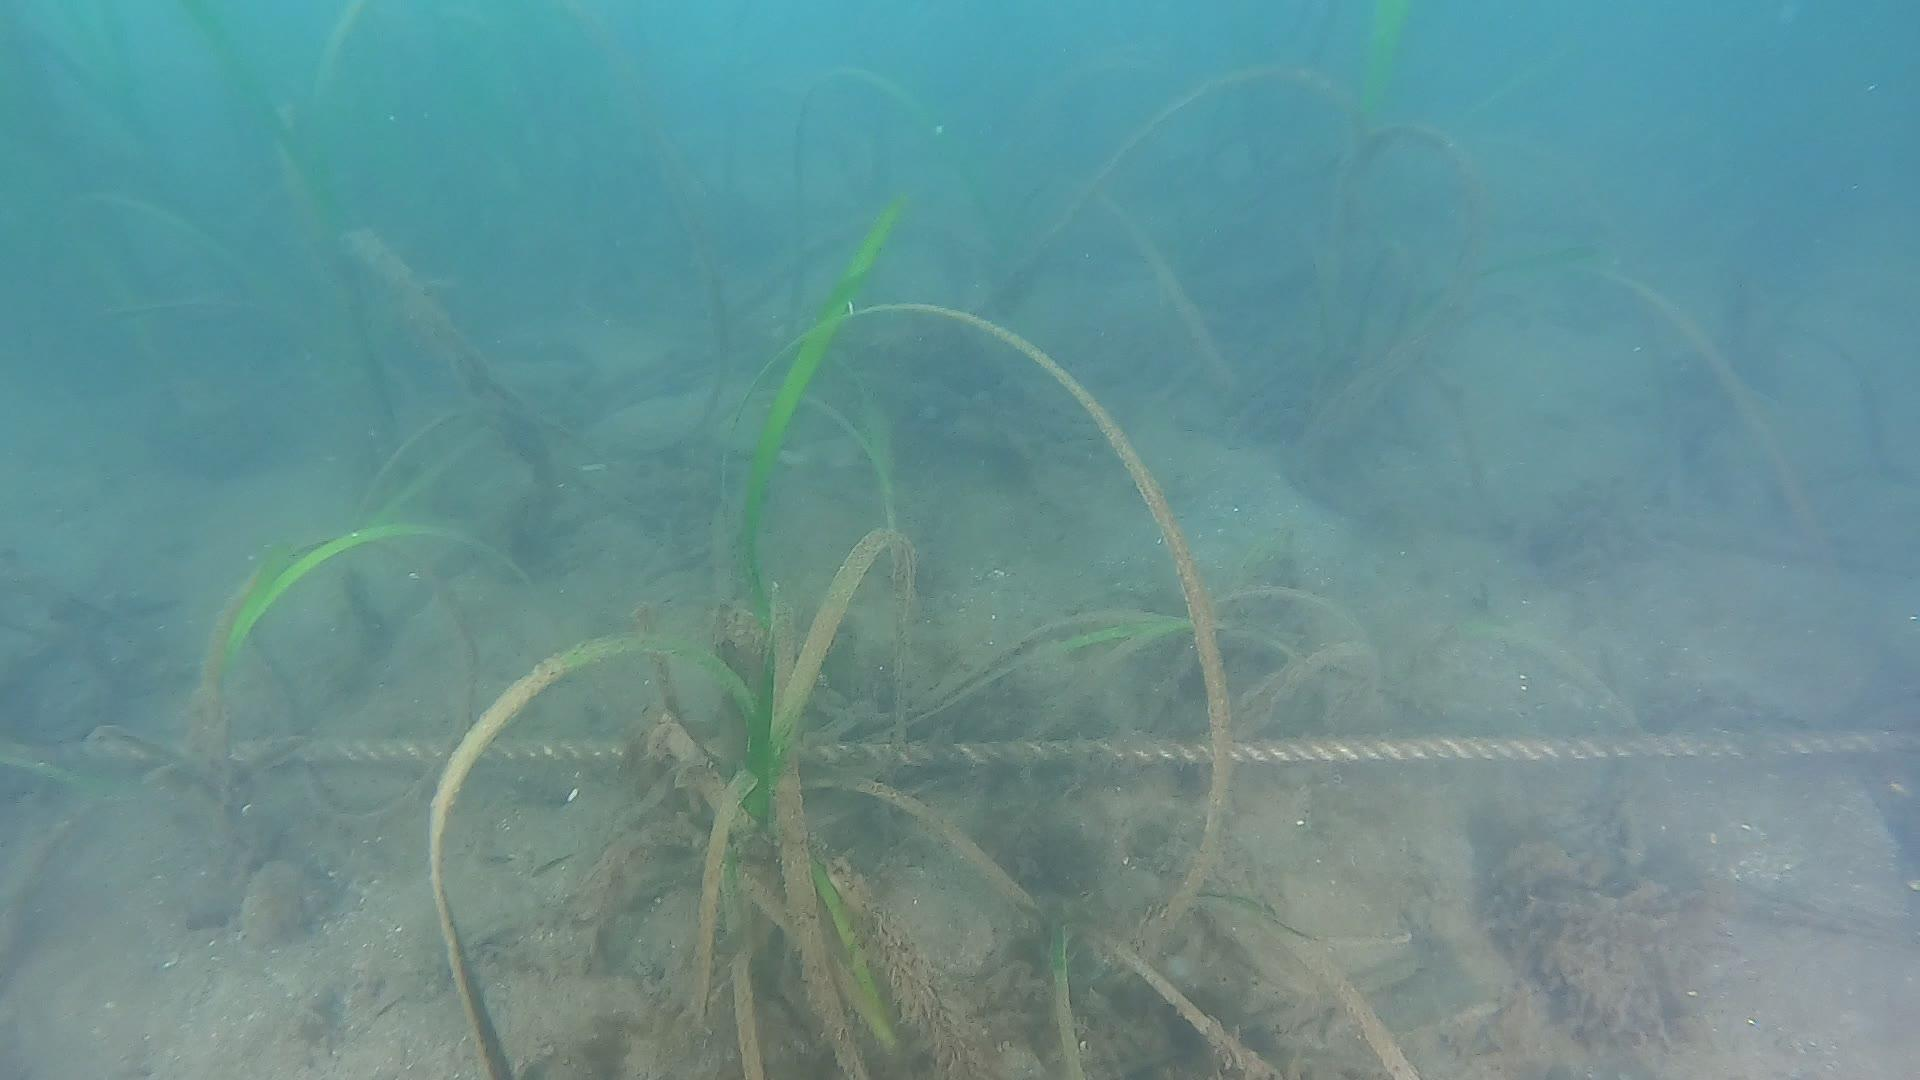rope: (4, 724, 1920, 775)
